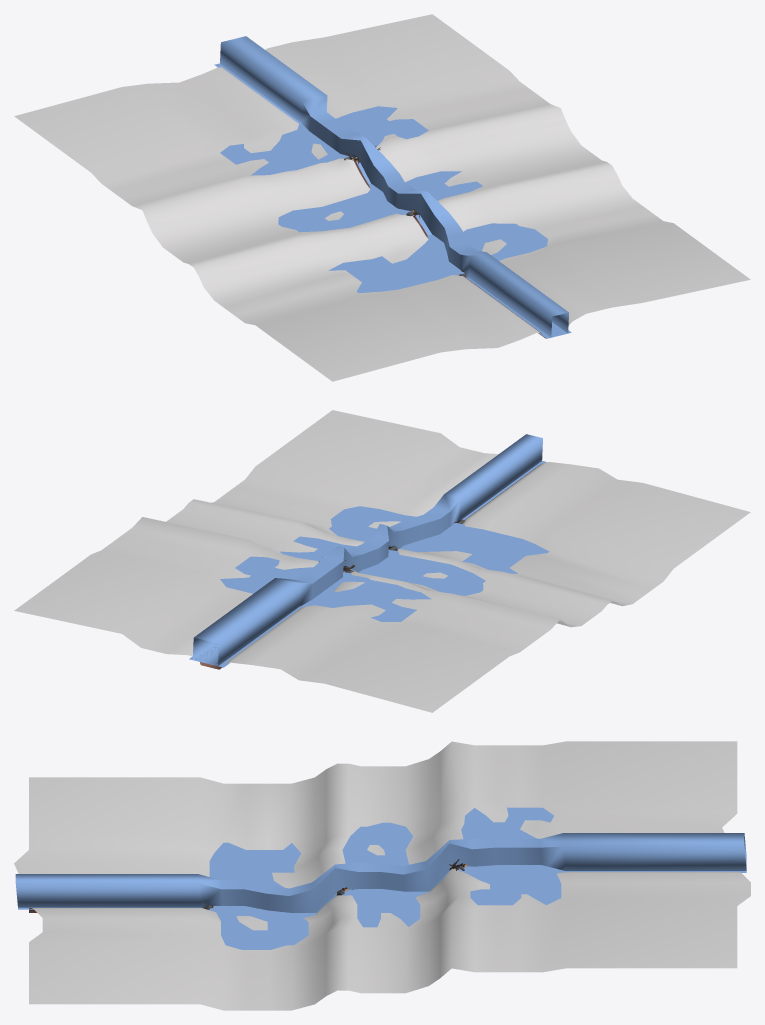
File: trigger_swimming_animation.glb
3 renders of one model, top to bottom at view 1: azimuth 30°, elevation 25°; view 2: azimuth 150°, elevation 25°; view 3: azimuth 270°, elevation 25°, orthographic. The views are drawn at different scales.
Parts seen in each view (by area): view 1: ground, trigger_swimming_animation, water_1, water_3, water_2, river; view 2: ground, trigger_swimming_animation, water_1, water_3, water_2, river; view 3: ground, trigger_swimming_animation, water_1, water_3, water_2, river.
Boxes of the visible parts, x1,y1,x2,y2 form: ground: [14, 14, 750, 381]; trigger_swimming_animation: [220, 36, 568, 337]; water_1: [328, 223, 547, 293]; water_3: [220, 106, 428, 175]; water_2: [278, 171, 482, 232]; river: [214, 63, 571, 338]; ground: [14, 410, 750, 712]; trigger_swimming_animation: [192, 434, 542, 666]; water_1: [329, 506, 549, 573]; water_3: [220, 556, 431, 621]; water_2: [280, 536, 485, 595]; river: [189, 461, 545, 667]; ground: [14, 741, 750, 1010]; trigger_swimming_animation: [15, 833, 746, 912]; water_1: [209, 842, 316, 949]; water_3: [459, 807, 565, 905]; water_2: [342, 822, 429, 927]; river: [18, 854, 746, 913].
Size of what is drawn, in the model's own units: 51.52 by 7.88 by 70.7.
